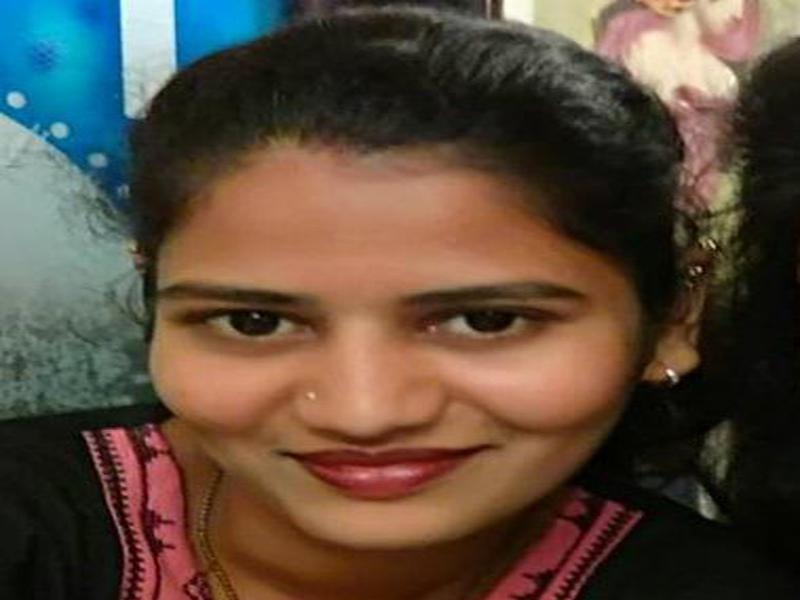without_mask: (149, 201, 633, 551)
